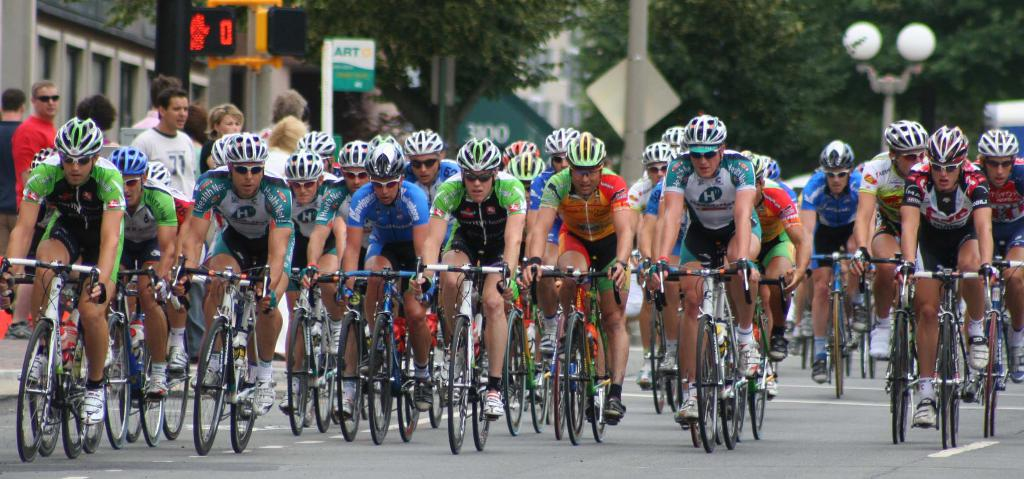Bike_toward: (5, 259, 102, 466)
